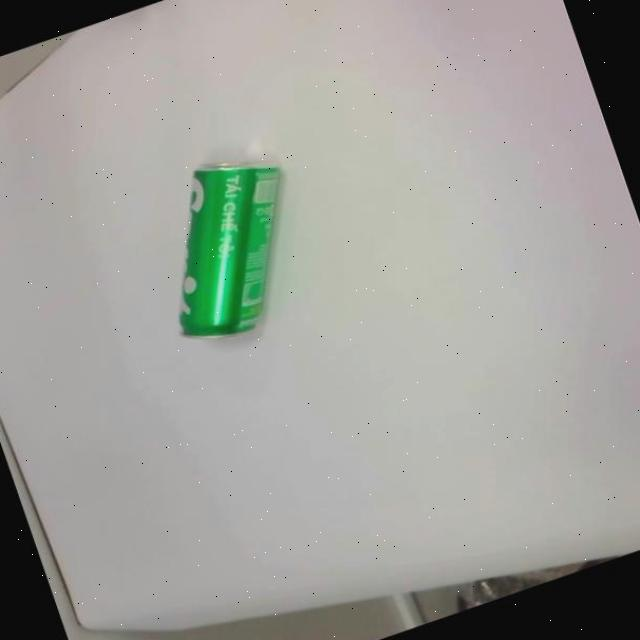debris: (128, 139, 328, 352)
